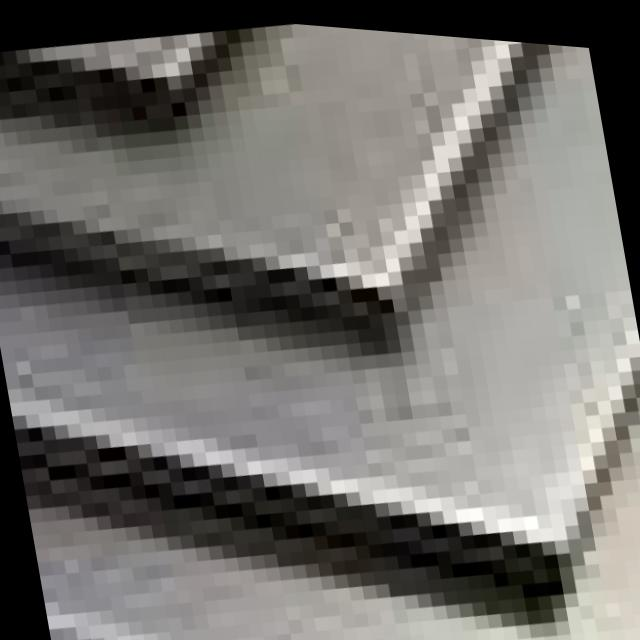metal-plates: (1, 20, 640, 640)
